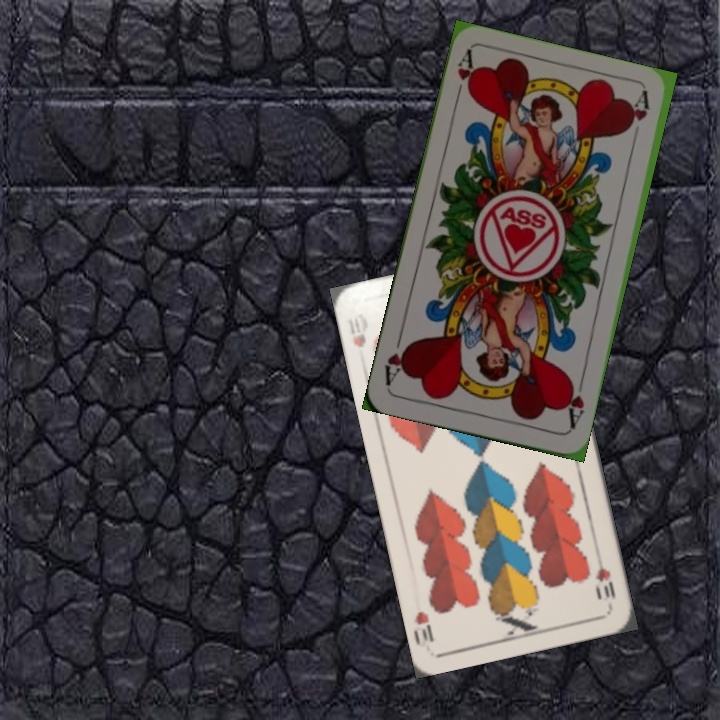H10: (592, 550, 618, 602), (344, 314, 369, 350)
HA: (450, 48, 479, 106), (560, 374, 587, 432)
